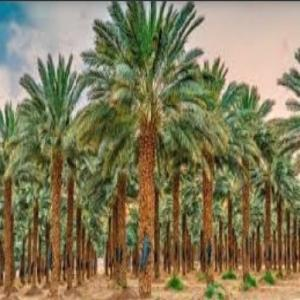palm tree: (77, 0, 207, 296), (17, 51, 88, 293), (0, 100, 24, 296)
